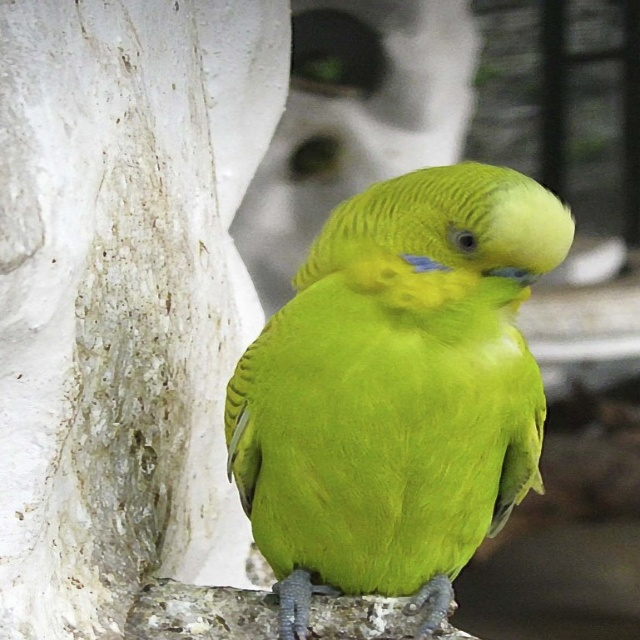Parrot: (226, 162, 575, 640)
